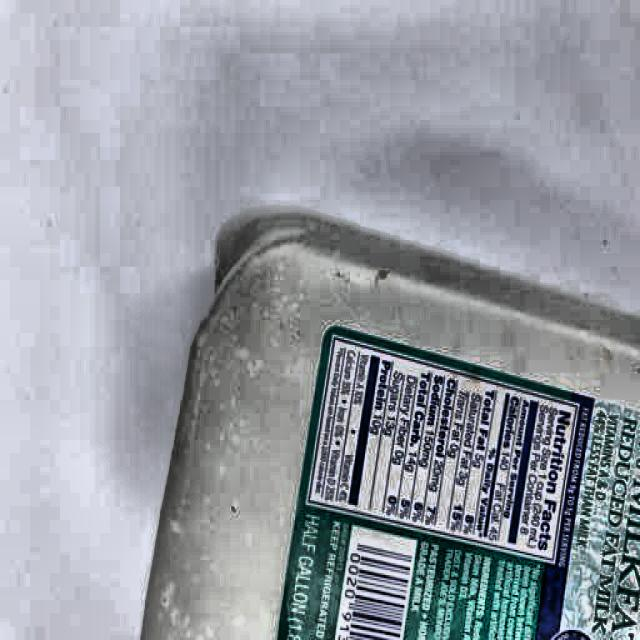plastic: (134, 199, 630, 595)
